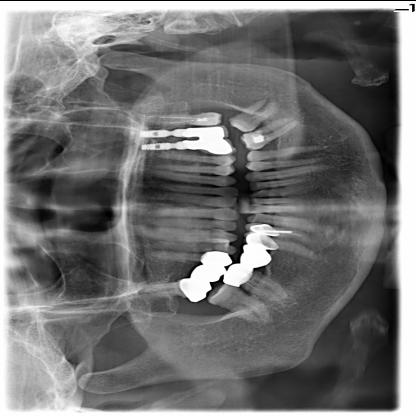Bicon: (134, 140, 178, 152), (135, 127, 176, 138)
